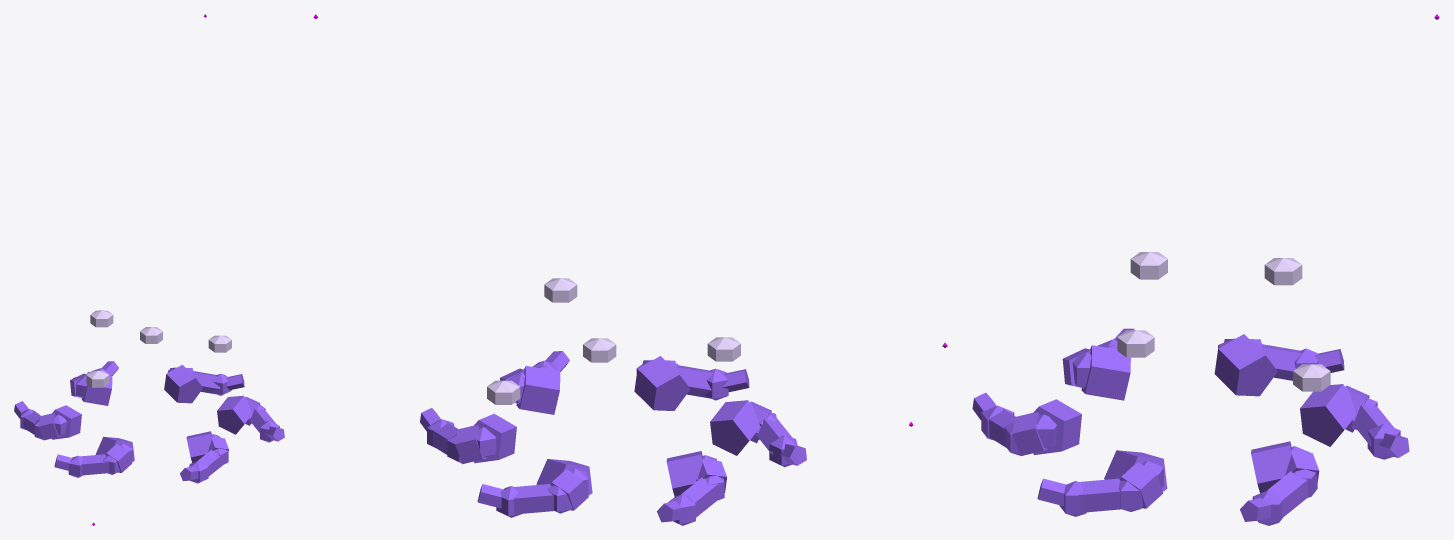
Rendered from acc_tentacles.fbx.
3 views of the same model, side by side, from view 1: azimuth 30°, elevation 25°; view 2: azimuth 150°, elevation 25°; view 3: azimuth 270°, elevation 25° (orthographic). The views are drawn at different scales.
Parts seen in each view (by area): view 1: Tentacles, Spots; view 2: Tentacles, Spots; view 3: Tentacles, Spots.
Boxes of the visible parts, box(x1,y1,x2,y2) form: Tentacles: box(14, 361, 284, 483); Spots: box(86, 310, 231, 387); Tentacles: box(420, 351, 806, 525); Spots: box(487, 278, 740, 404); Tentacles: box(972, 328, 1409, 525); Spots: box(1117, 252, 1330, 391).
Size of the model in its own units: 2.99 by 3.6 by 2.99.
